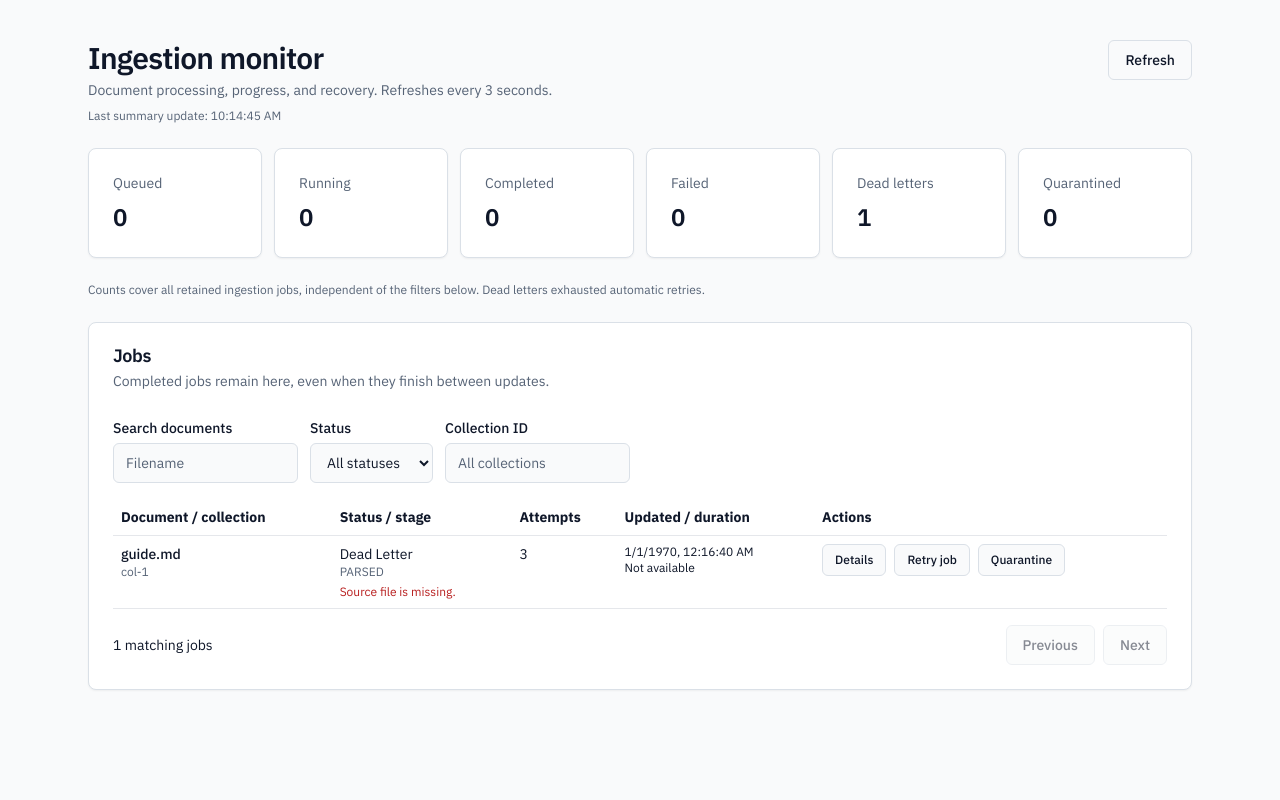
Test: sends filters to the server and displays an empty result
The image size is (1280, 800).
expect the text "guide.md" is shown: met, box [121,545,181,563]
Type "other" into the field labelled "Search documents" at (206, 463), box [113,443,298,483]
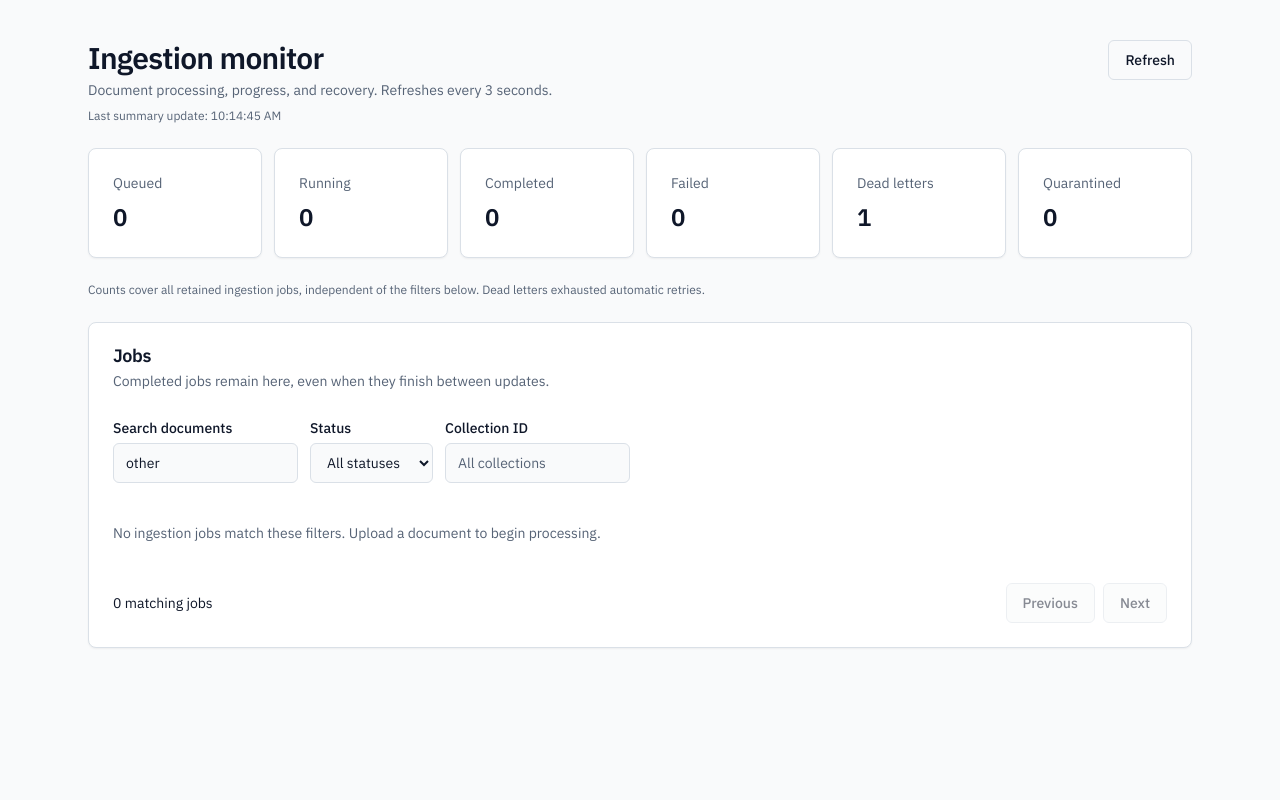
expect the text "No ingestion jobs match" is shown: met, box [113,524,601,542]
